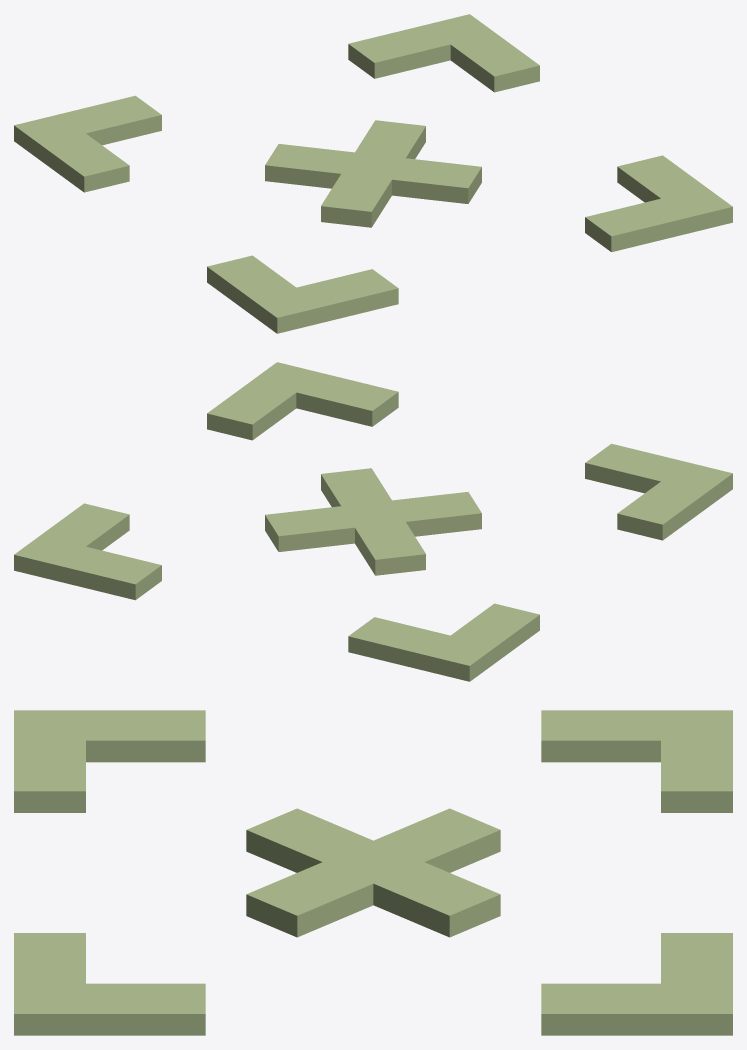
Rendered from marker_atk.glb.
3 views of the same model, one above another, from view 1: azimuth 30°, elevation 25°; view 2: azimuth 150°, elevation 25°; view 3: azimuth 270°, elevation 25° (orthographic). The views are drawn at different scales.
Parts seen in each view (by area): view 1: X1, X0, H1, H0, H3, H2, V2, V3, V0, V1; view 2: X0, X1, H3, H2, H1, H0, V1, V0, V2, V3; view 3: X0, X1, V3, V1, H2, H0, H3, H1, V0, V2.
Boxes of the visible parts, x1=… form: X1: x1=265, y1=144, x2=481, y2=203; X0: x1=321, y1=120, x2=425, y2=227; H1: x1=585, y1=187, x2=732, y2=252; H0: x1=251, y1=269, x2=398, y2=333; H3: x1=348, y1=14, x2=495, y2=78; H2: x1=14, y1=95, x2=161, y2=159; V2: x1=14, y1=114, x2=129, y2=192; V3: x1=425, y1=14, x2=539, y2=92; V0: x1=207, y1=255, x2=322, y2=332; V1: x1=617, y1=155, x2=732, y2=233; X0: x1=265, y1=492, x2=481, y2=551; X1: x1=321, y1=468, x2=425, y2=575; H3: x1=14, y1=535, x2=161, y2=600; H2: x1=348, y1=617, x2=495, y2=681; H1: x1=251, y1=362, x2=398, y2=426; H0: x1=585, y1=443, x2=732, y2=507; V1: x1=207, y1=362, x2=321, y2=440; V0: x1=617, y1=462, x2=732, y2=540; V2: x1=424, y1=603, x2=539, y2=681; V3: x1=14, y1=503, x2=129, y2=575; X0: x1=246, y1=808, x2=500, y2=937; X1: x1=246, y1=808, x2=500, y2=937; V3: x1=541, y1=983, x2=732, y2=1035; V1: x1=14, y1=983, x2=205, y2=1035; H2: x1=661, y1=710, x2=732, y2=812; H0: x1=14, y1=710, x2=85, y2=812; H3: x1=661, y1=933, x2=732, y2=1035; H1: x1=14, y1=933, x2=85, y2=1035; V0: x1=14, y1=710, x2=205, y2=762; V2: x1=541, y1=710, x2=732, y2=762.
Bounding box in the file's own units: 0.9 × 0.03 × 0.9.
